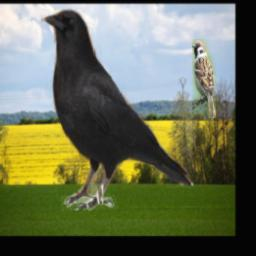Crow: (42, 5, 194, 212)
Sparrow: (192, 40, 216, 119)
